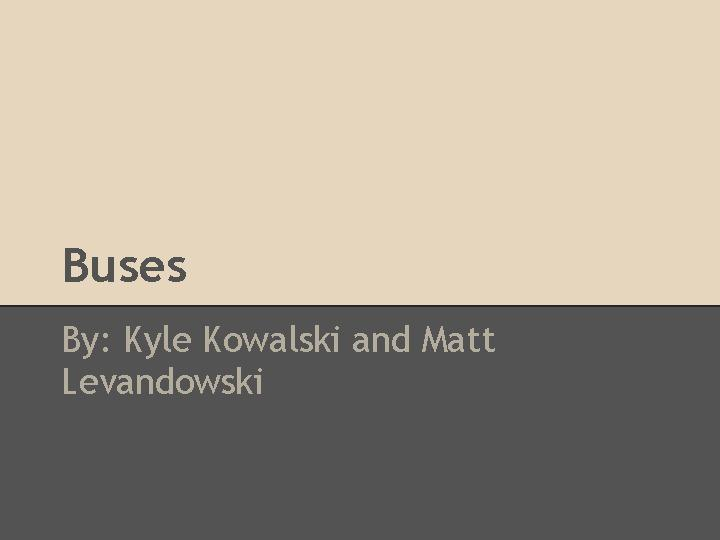subtitle: (55, 316, 525, 426)
title: (55, 236, 204, 295)
